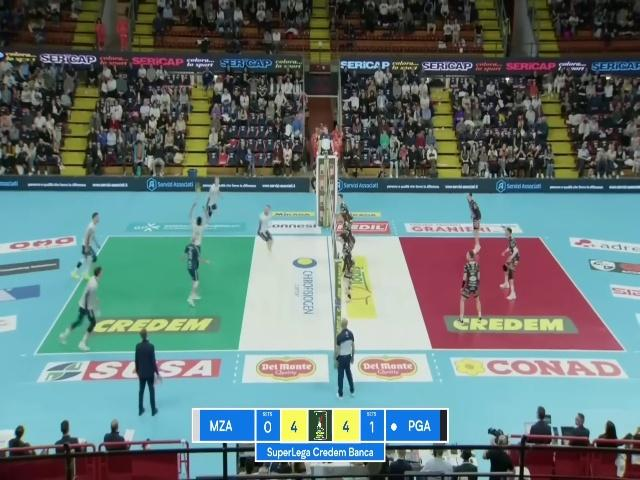volleyball court: (36, 236, 626, 352)
